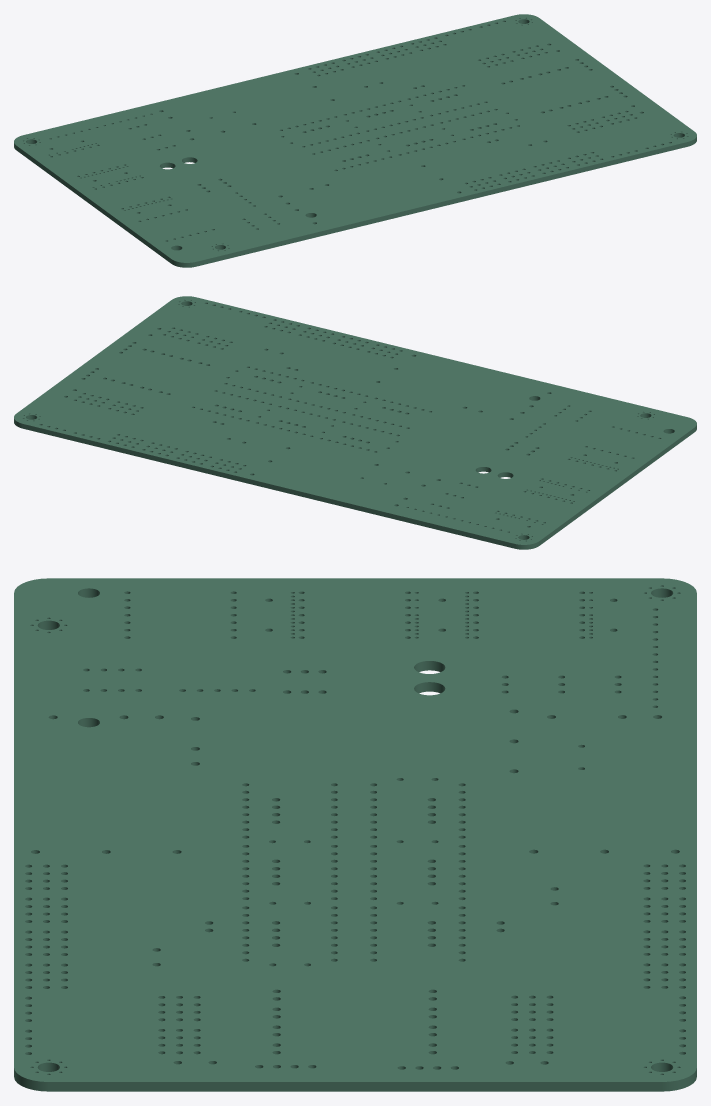
File: doom_v1.glb
3 views of the same model, one above another, from view 1: azimuth 30°, elevation 25°; view 2: azimuth 150°, elevation 25°; view 3: azimuth 270°, elevation 25° (orthographic). The views are drawn at different scales.
Parts seen in each view (by area): view 1: =>[0:1:1:2]; view 2: =>[0:1:1:2]; view 3: =>[0:1:1:2].
Boxes of the visible parts, left/top/right/bottom form: =>[0:1:1:2]: left=14, top=14, right=696, bottom=267; =>[0:1:1:2]: left=14, top=296, right=696, bottom=549; =>[0:1:1:2]: left=14, top=578, right=696, bottom=1091.
Size of the model in its own units: 0.171 by 0.00151 by 0.098.
